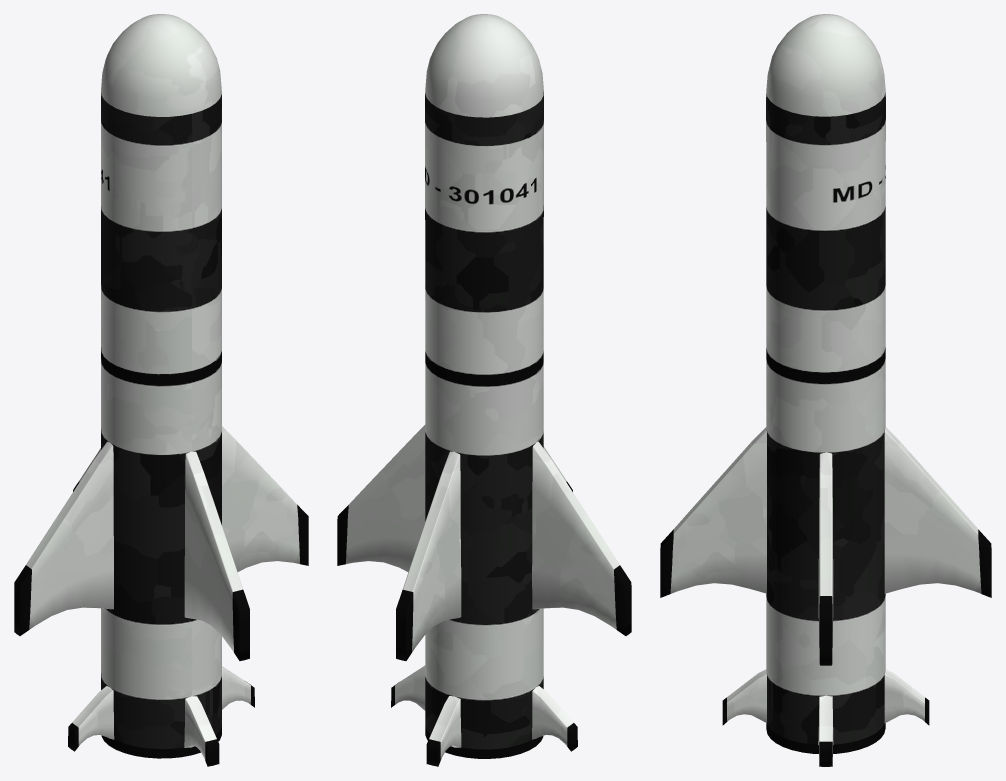
3 views of the same model, side by side, from view 1: azimuth 30°, elevation 25°; view 2: azimuth 150°, elevation 25°; view 3: azimuth 270°, elevation 25° (orthographic).
Visible parts, largest first — view 1: Object_2; view 2: Object_2; view 3: Object_2.
Part boxes in pixels (x1,y1,x2,y2): Object_2: [14, 14, 308, 766]; Object_2: [337, 14, 631, 766]; Object_2: [660, 14, 991, 766].
Bounding box in the file's own units: 2.77 × 6.55 × 2.77.
Materials: 1 (1 with a texture image).
